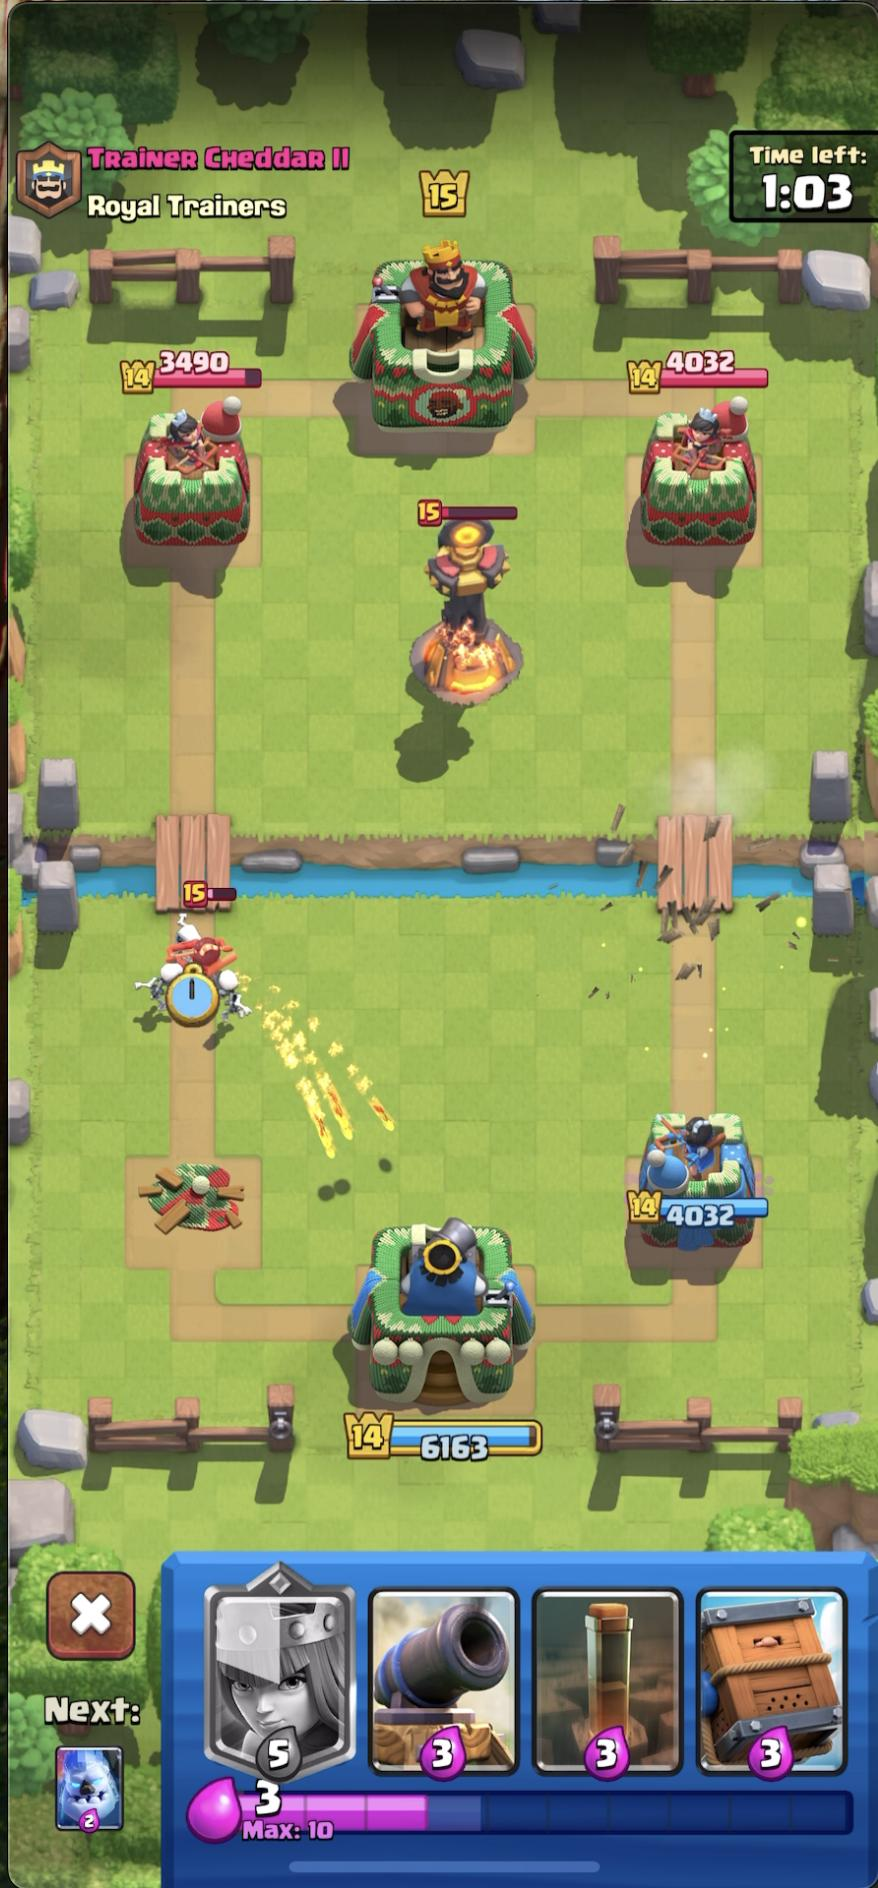elixir bar: (183, 1774, 366, 1851)
timer: (733, 132, 878, 222)
